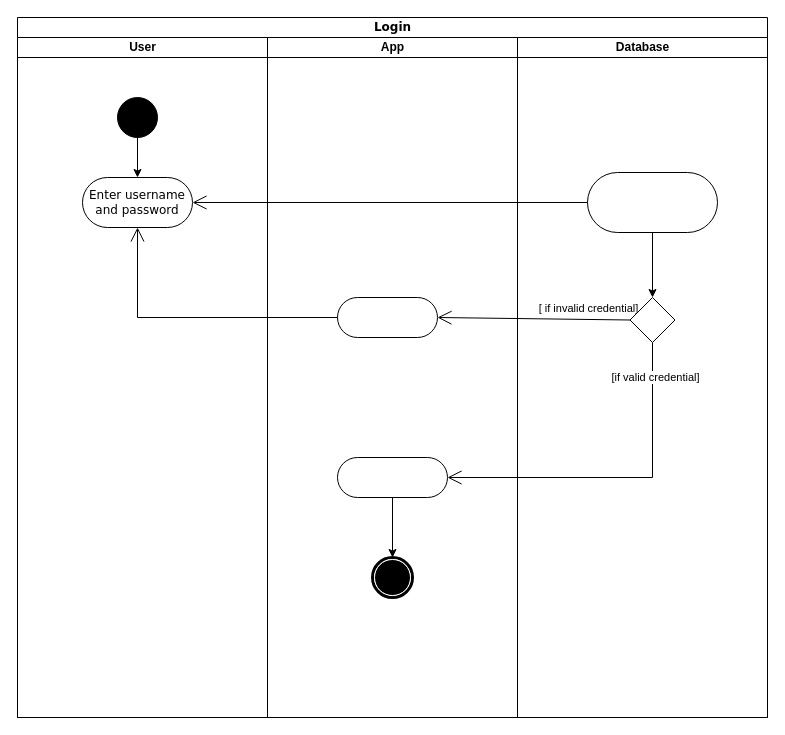
Image size: 785x735. Some labels were removed from this diagram. The centre of each missing label's shape, as x and y in pixels:
Alert invalid credential: point (387, 317)
Select user with username and password: point (652, 202)
Show dashboard: point (392, 477)
